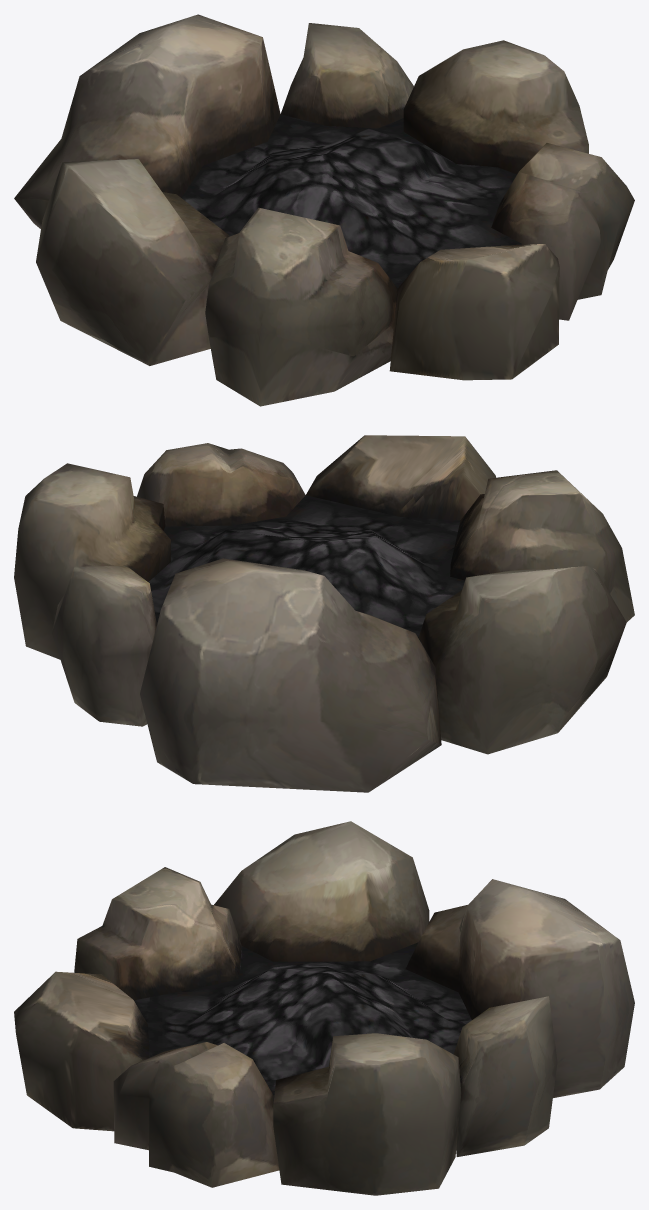
File: 6fx_campfire_cold01.obj
3 renders of one model, top to bottom at view 1: azimuth 30°, elevation 25°; view 2: azimuth 150°, elevation 25°; view 3: azimuth 270°, elevation 25°, orthographic. The views are drawn at different scales.
Parts seen in each view (by area): view 1: 6FX_Campfire_Cold01; view 2: 6FX_Campfire_Cold01; view 3: 6FX_Campfire_Cold01.
Boxes of the visible parts, left/top/right/bottom form: 6FX_Campfire_Cold01: left=14, top=14, right=634, bottom=406; 6FX_Campfire_Cold01: left=14, top=435, right=634, bottom=792; 6FX_Campfire_Cold01: left=14, top=821, right=634, bottom=1195.
Size of the model in its own units: 2.12 by 0.6644 by 2.23.
1 material, 1 textured.
